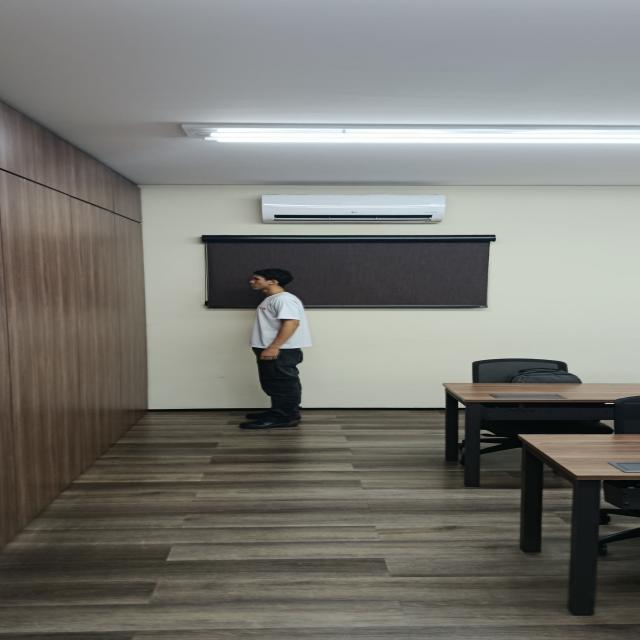sem_oculos: (247, 278, 276, 282)
